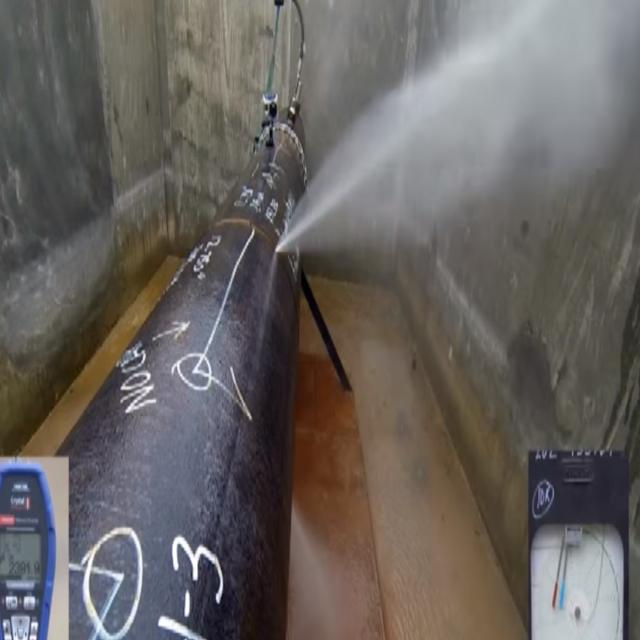leak: (282, 0, 640, 250)
